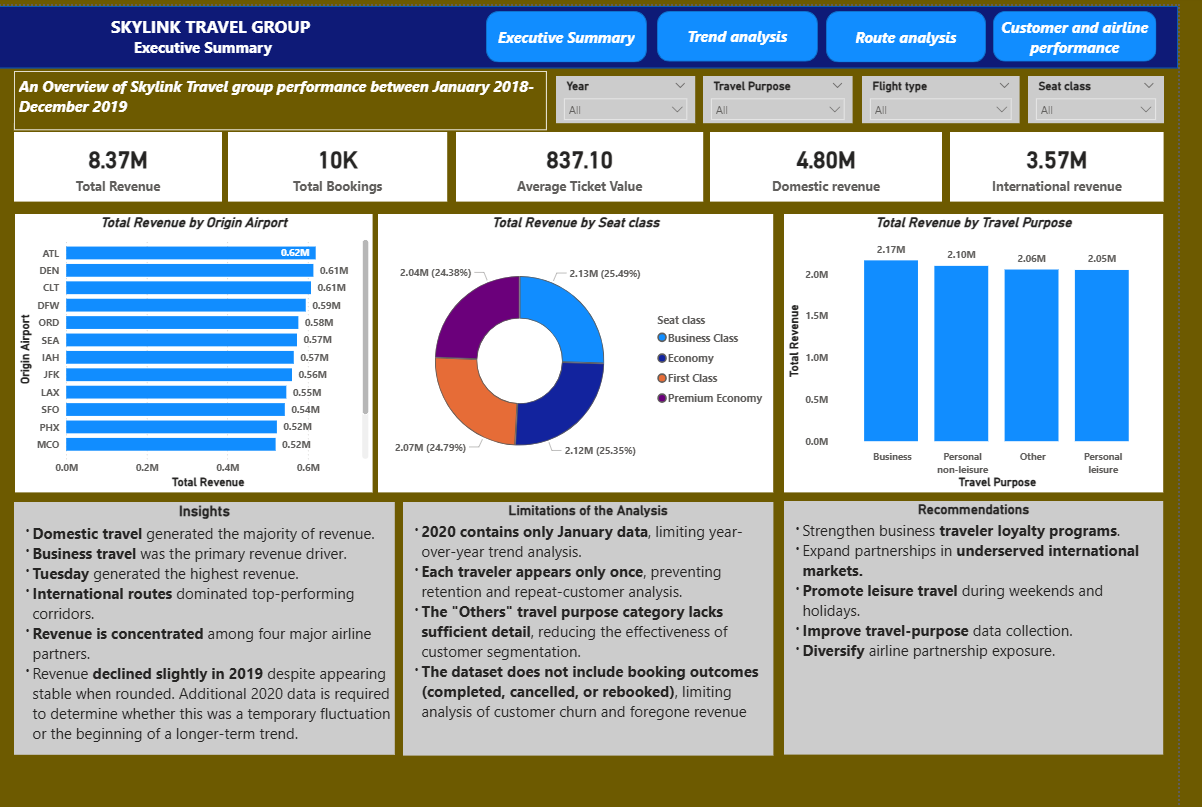

Layout of this report page (visuals, bound fields, positions):
{"tool":"powerbi","page":{"name":"Executive Summary","canvas":[1480,1080],"ordinal":0},"visuals":[{"type":"shape","box":[0,0,1480,78],"z":0},{"type":"textbox","box":[0,6.7,615.6,63.3],"z":1000},{"type":"card","fields":{"Values":["Measures (2).Total Revenue"]},"box":[25,158,260,87],"z":2000},{"type":"card","fields":{"Values":["Measures (2).Total Bookings"]},"box":[293,158,274,87],"z":3000},{"type":"card","fields":{"Values":["Measures (2).Average Ticket Value"]},"box":[577,158,309,87],"z":4000},{"type":"card","fields":{"Values":["Measures (2).Domestic revenue"]},"box":[895,158,290,87],"z":5000},{"type":"card","fields":{"Values":["Measures (2).International revenue"]},"box":[1195,158,267,87],"z":6000},{"type":"textbox","title":"Insights","box":[25,620,476,316],"z":7000},{"type":"textbox","title":"Limitations of the Analysis","box":[511,620,463,317],"z":8000},{"type":"textbox","title":"Recommendations","box":[988,619,474,317],"z":9000},{"type":"slicer","fields":{"Values":["Date Table.Year"]},"box":[703,88,174,59],"z":10000},{"type":"slicer","fields":{"Values":["Flights.Travel Purpose"]},"box":[886,88,187,59],"z":11000},{"type":"slicer","fields":{"Values":["Flights.Flight type"]},"box":[1085,88,197,59],"z":12000},{"type":"slicer","fields":{"Values":["Flights.Seat class"]},"box":[1292,88,170,59],"z":13000},{"type":"shape","box":[828.9,6.7,201.1,63.3],"z":14000},{"type":"shape","box":[615.6,6.7,201.1,64.4],"z":15000},{"type":"shape","box":[1040,6.7,200,64.4],"z":16000},{"type":"shape","box":[1248.9,6.7,204.4,63.3],"z":17000},{"type":"barChart","fields":{"Category":["Flights.Origin Airport"],"Y":["Measures (2).Total Revenue"]},"box":[26,260,447,348],"z":18000},{"type":"donutChart","fields":{"Category":["Flights.Seat class"],"Y":["Measures (2).Total Revenue"]},"box":[480,260,494,348],"z":19000},{"type":"columnChart","fields":{"Category":["Flights.Travel Purpose"],"Y":["Measures (2).Total Revenue"]},"box":[988,260,474,348],"z":20000},{"type":"textbox","box":[25,81,666,74],"z":20001}]}

Visuals, with their boxes on the page's 1480x1080 design canvas (x1, y1, x2, y2). These are canvas units, not pixel positions in the 1202x807 screenshot, which may show the page scaled, cropped or inside an application window:
shape: l=0, t=0, r=1480, b=78
textbox: l=0, t=7, r=616, b=70
card - Measures (2).Total Revenue: l=25, t=158, r=285, b=245
card - Measures (2).Total Bookings: l=293, t=158, r=567, b=245
card - Measures (2).Average Ticket Value: l=577, t=158, r=886, b=245
card - Measures (2).Domestic revenue: l=895, t=158, r=1185, b=245
card - Measures (2).International revenue: l=1195, t=158, r=1462, b=245
"Insights" textbox: l=25, t=620, r=501, b=936
"Limitations of the Analysis" textbox: l=511, t=620, r=974, b=937
"Recommendations" textbox: l=988, t=619, r=1462, b=936
slicer - Date Table.Year: l=703, t=88, r=877, b=147
slicer - Flights.Travel Purpose: l=886, t=88, r=1073, b=147
slicer - Flights.Flight type: l=1085, t=88, r=1282, b=147
slicer - Flights.Seat class: l=1292, t=88, r=1462, b=147
shape: l=829, t=7, r=1030, b=70
shape: l=616, t=7, r=817, b=71
shape: l=1040, t=7, r=1240, b=71
shape: l=1249, t=7, r=1453, b=70
barChart - Flights.Origin Airport x Measures (2).Total Revenue: l=26, t=260, r=473, b=608
donutChart - Flights.Seat class x Measures (2).Total Revenue: l=480, t=260, r=974, b=608
columnChart - Flights.Travel Purpose x Measures (2).Total Revenue: l=988, t=260, r=1462, b=608
textbox: l=25, t=81, r=691, b=155
